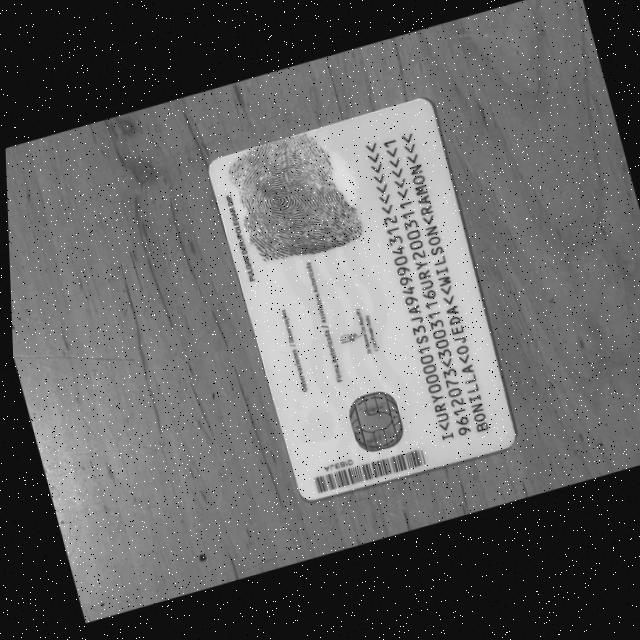card: (210, 100, 514, 499)
